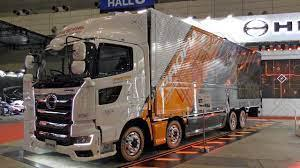truck: (33, 7, 263, 163)
